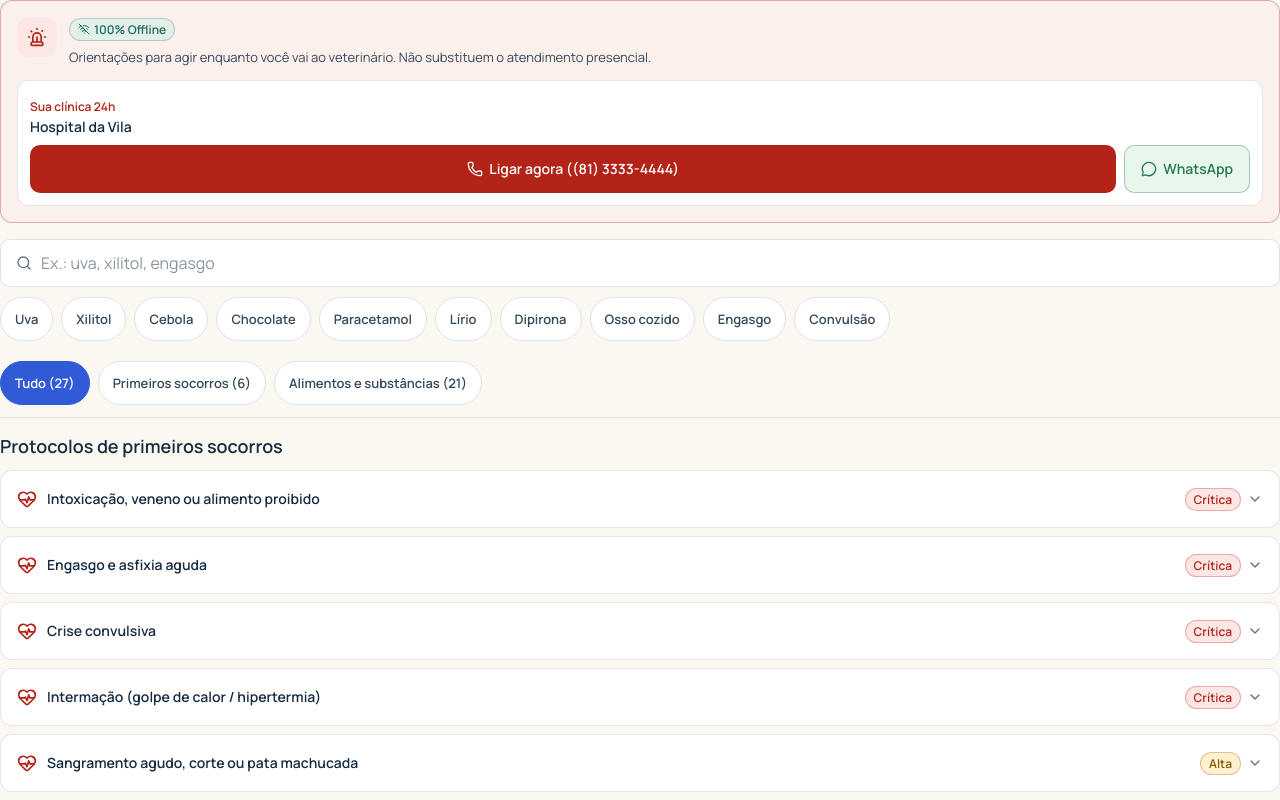
Test: FirstAidGuide › funciona offline para busca rápida e liga para a clínica 24h salva pelo tutor
The image size is (1280, 800).
Expected: the text "100% Offline" is shown, x1=69 y1=18 x2=175 y2=40
Type "xilitol" into the search field named "Buscar alimento, substância ou emergência" at (640, 263), box x1=0 y1=239 x2=1279 y2=287
(page scrolled)
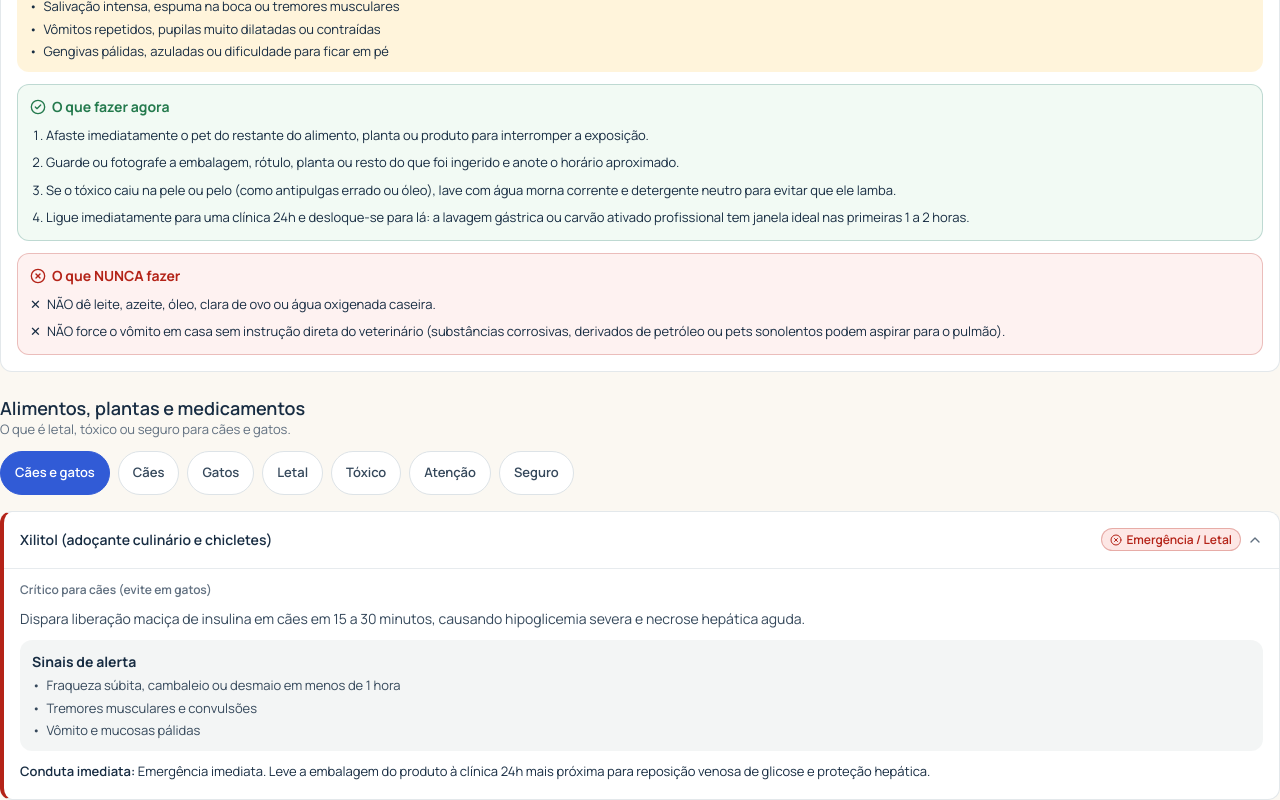
Expected: the heading "Xilitol (adoçante culinário e chicletes)" is shown, x1=20 y1=530 x2=272 y2=550
Result: the text "hipoglicemia severa" is shown at x1=20 y1=608 x2=805 y2=628
